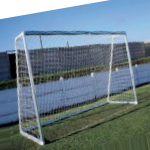goals: (13, 29, 139, 145)
